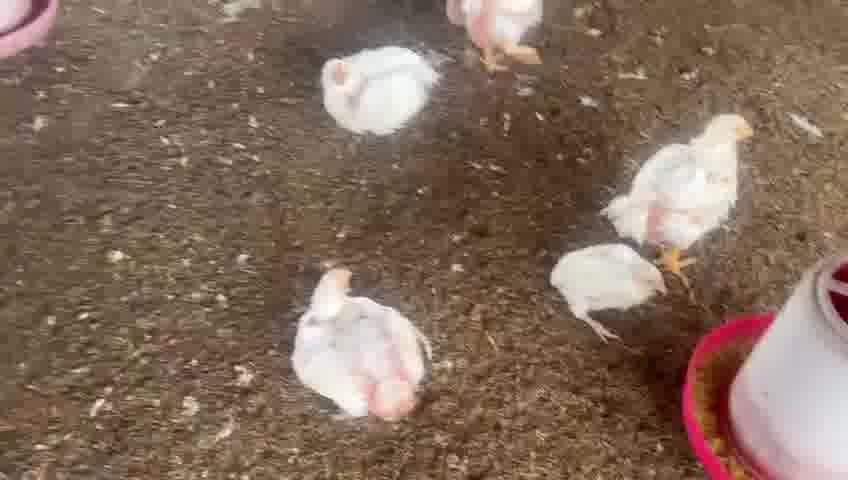AbNormal: (540, 215, 671, 359)
Normal: (288, 263, 438, 429), (608, 102, 759, 258), (300, 39, 445, 145)
